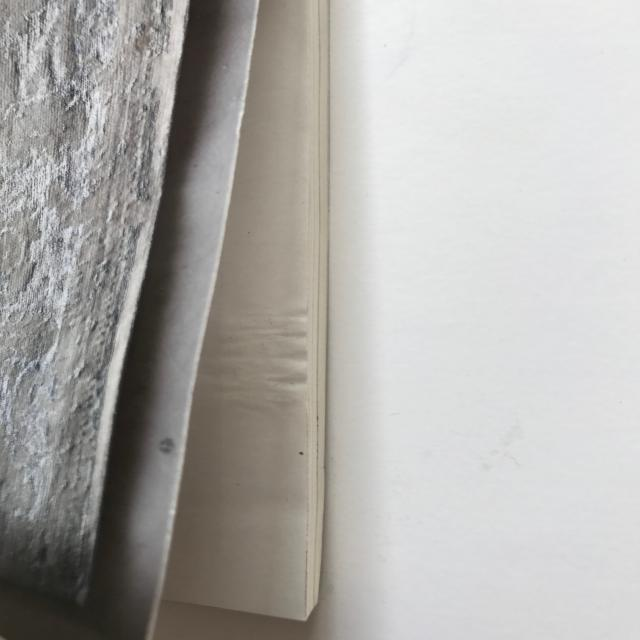paper: (0, 0, 351, 640)
